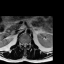CCS_normal: (24, 40, 25, 50)
LFS_normal: (27, 40, 29, 46)
LLS_normal: (25, 40, 27, 47)
RFS_normal: (20, 41, 22, 46)
RLS_normal: (22, 40, 24, 47)
